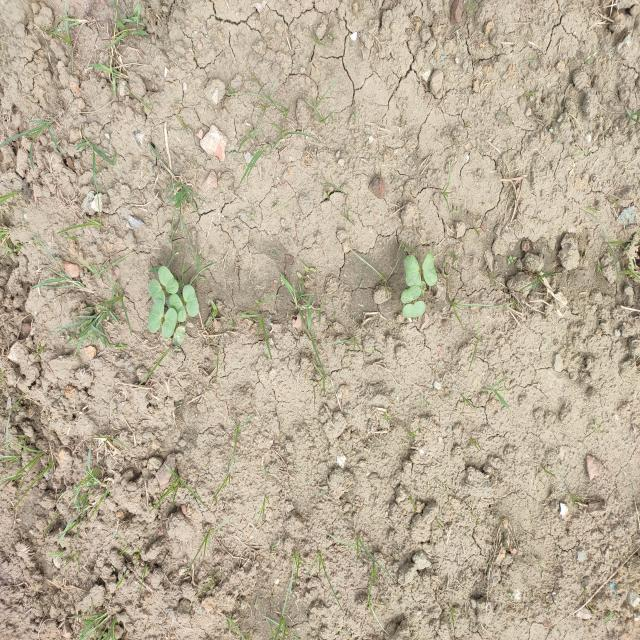seedling_s2: (147, 299, 164, 333), (158, 266, 179, 293), (404, 255, 421, 287), (182, 285, 199, 316), (422, 254, 437, 286), (162, 308, 177, 339), (169, 294, 186, 321), (148, 279, 164, 305), (402, 301, 426, 318), (401, 285, 421, 303), (173, 325, 186, 346)
